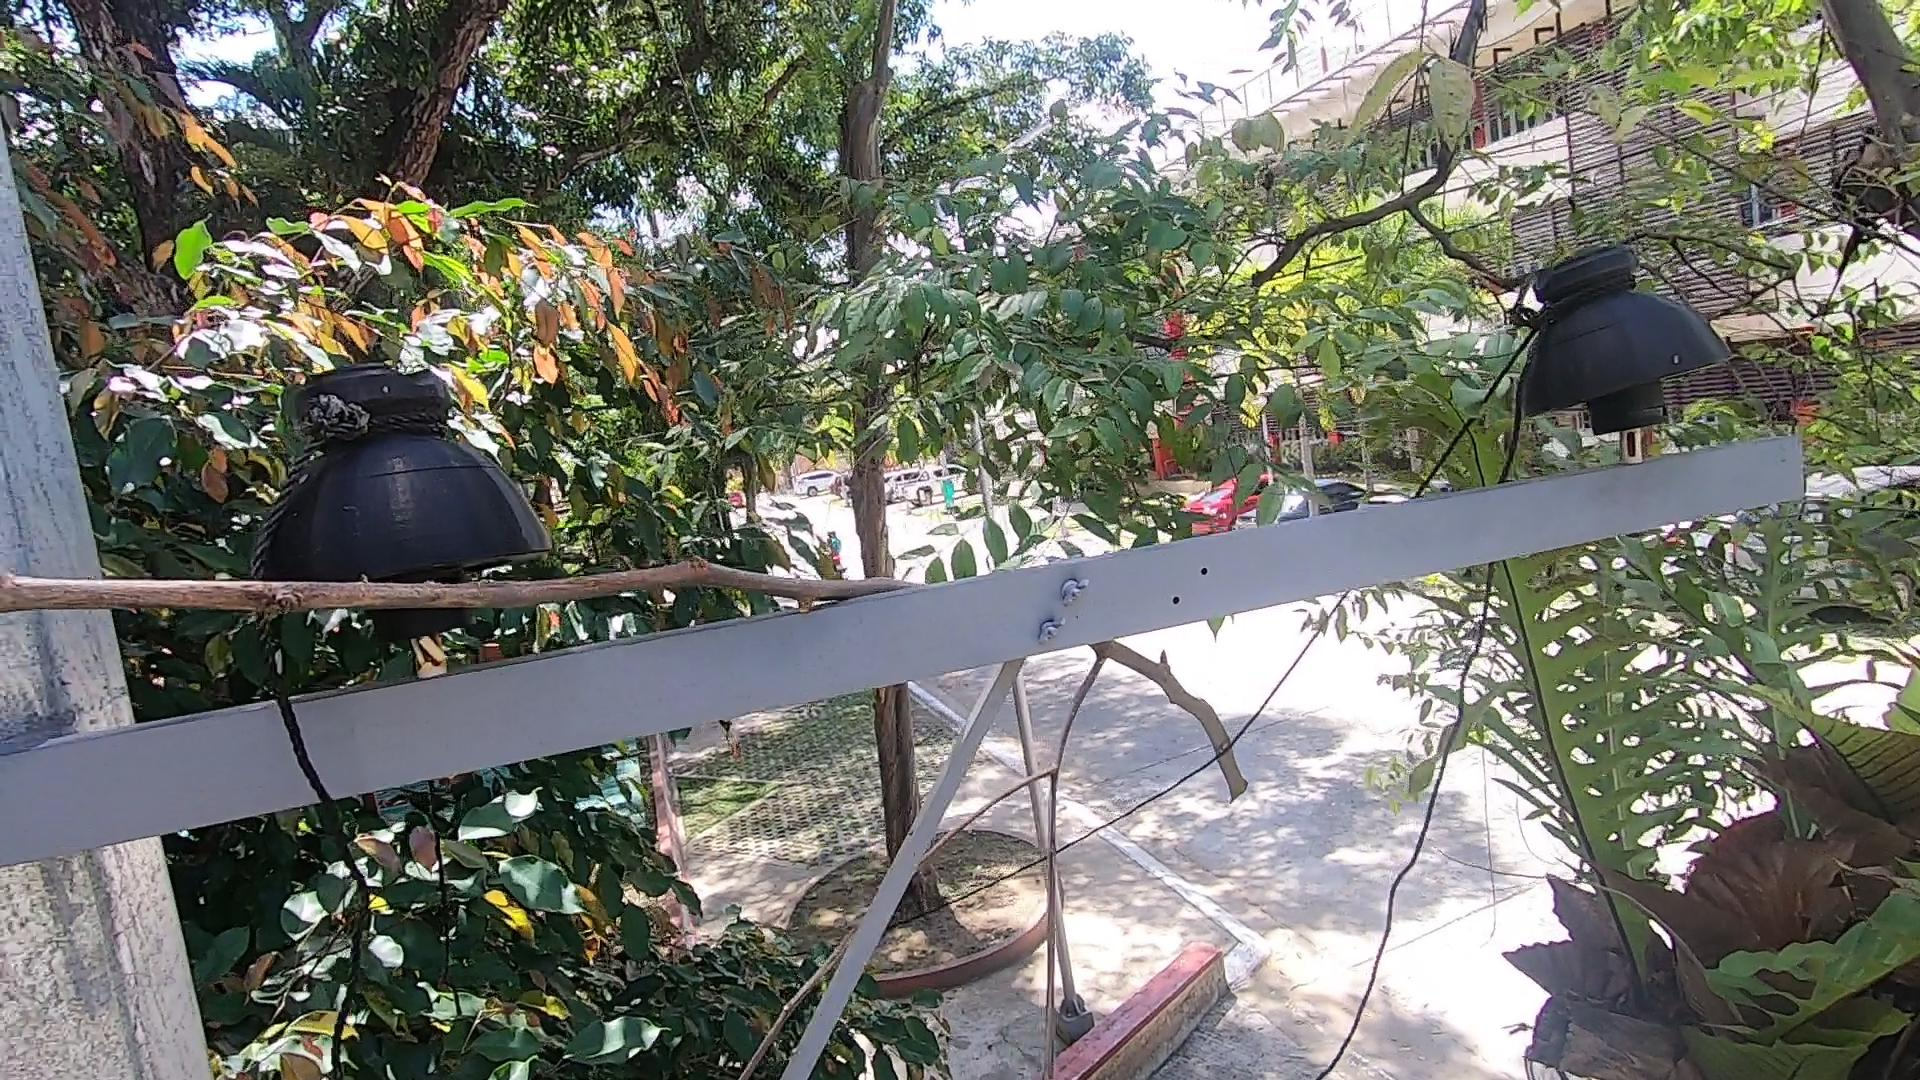tree branch: (913, 636, 1317, 1080), (1, 560, 906, 641), (719, 924, 866, 1077)
